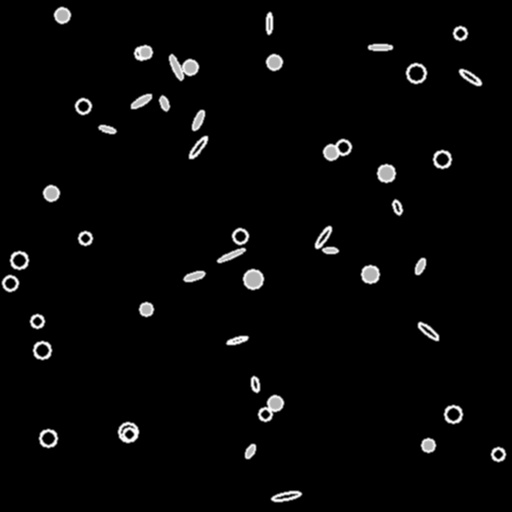pseudomonas: (188, 135, 208, 159), (313, 225, 333, 249), (168, 53, 184, 81), (217, 247, 245, 263), (417, 321, 439, 341), (458, 68, 482, 86), (190, 109, 206, 131), (130, 93, 152, 109), (272, 490, 300, 502), (183, 270, 205, 282), (226, 335, 248, 345), (414, 257, 426, 275), (244, 443, 256, 459), (99, 124, 115, 134), (392, 199, 402, 215), (159, 95, 169, 111), (250, 376, 260, 392), (369, 44, 392, 50), (266, 13, 272, 33), (322, 247, 338, 253)
synechocystis: (407, 64, 425, 82), (244, 270, 262, 288), (119, 423, 137, 441), (40, 430, 56, 446), (378, 165, 394, 181), (445, 406, 461, 422), (434, 151, 450, 167), (34, 342, 50, 358), (362, 266, 378, 282), (11, 252, 27, 268), (183, 60, 197, 74), (44, 186, 58, 200), (324, 145, 338, 159), (336, 140, 350, 154), (267, 55, 281, 69), (55, 8, 69, 22), (268, 396, 282, 410), (76, 99, 90, 113), (3, 276, 17, 290), (233, 229, 247, 243), (31, 315, 43, 327), (454, 27, 466, 39), (135, 47, 147, 59), (79, 232, 91, 244), (259, 408, 271, 420), (422, 439, 434, 451), (139, 46, 151, 58), (140, 303, 152, 315), (123, 428, 135, 440), (492, 448, 504, 460)
